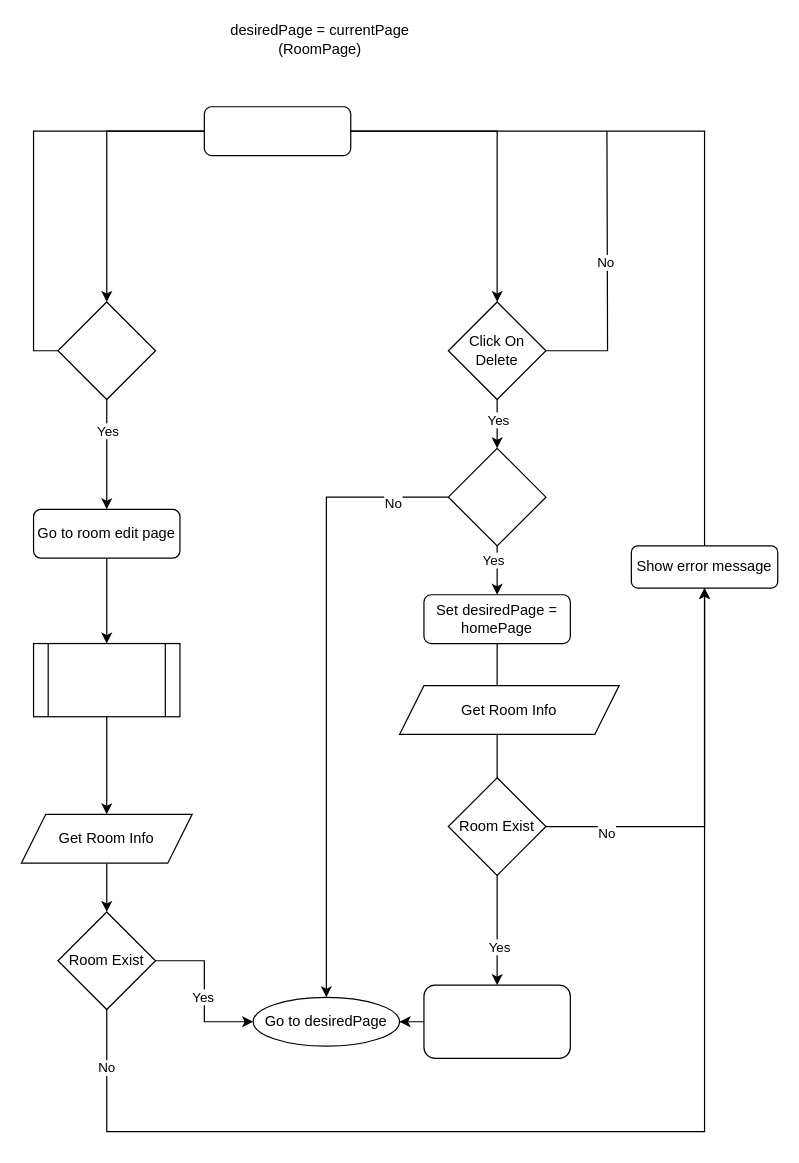
This 799x1163 diagram has some shape labels left out. The centre of each missing label's shape, as x and y in pixels:
"Click On Edit" belongs at point 106,350.
"Confirm" belongs at point 496,496.
"Remove room from BDD" belongs at point 496,1021.
"Room Management" belongs at point 277,131.
"Room Requirement Check" belongs at point 106,679.
